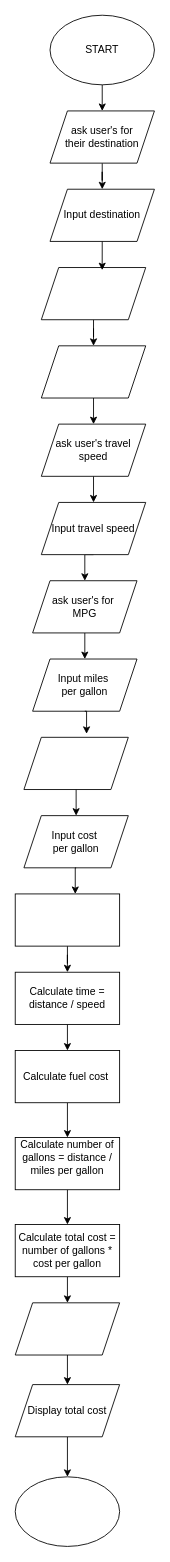
Image size: 170x1562. Some labels were removed from this diagram. Here are the shapes that lost their labels. From the top down, the centre of each, then its label:
At point (93, 293): "ask user's for the distance".
At point (93, 371): "Input distance to destination".
At point (75, 763): "ask user's cost per gallon".
At point (67, 919): "Calculate travel time".
At point (67, 1328): "Display travel time".
At point (67, 1511): "END".
